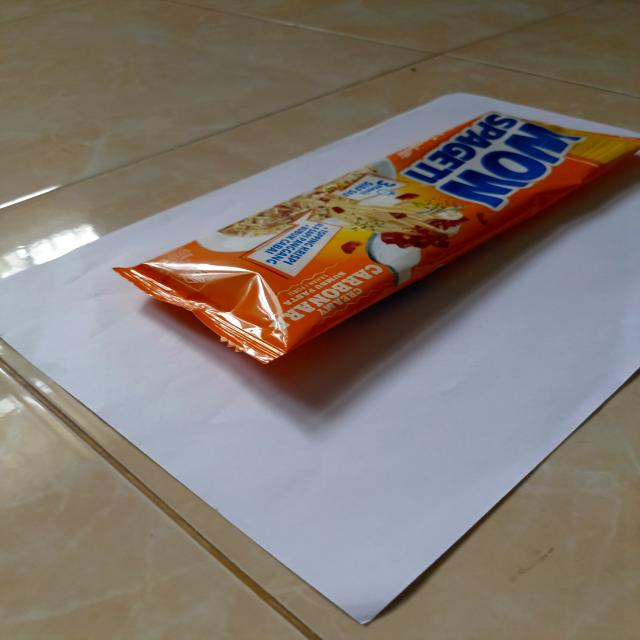indomie-tori-miso: (111, 110, 640, 364)
